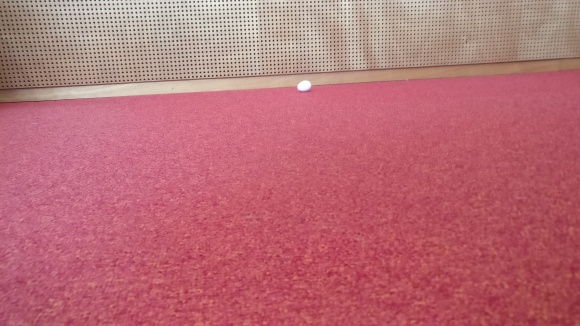egg: (296, 79, 312, 92)
